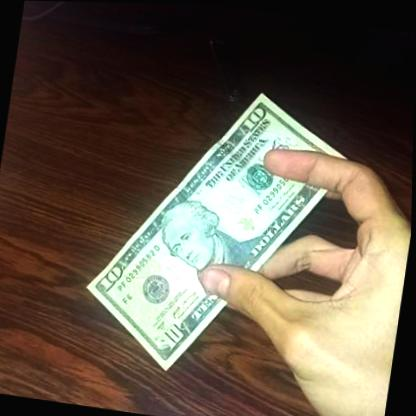dollar_front: (75, 68, 396, 396)
